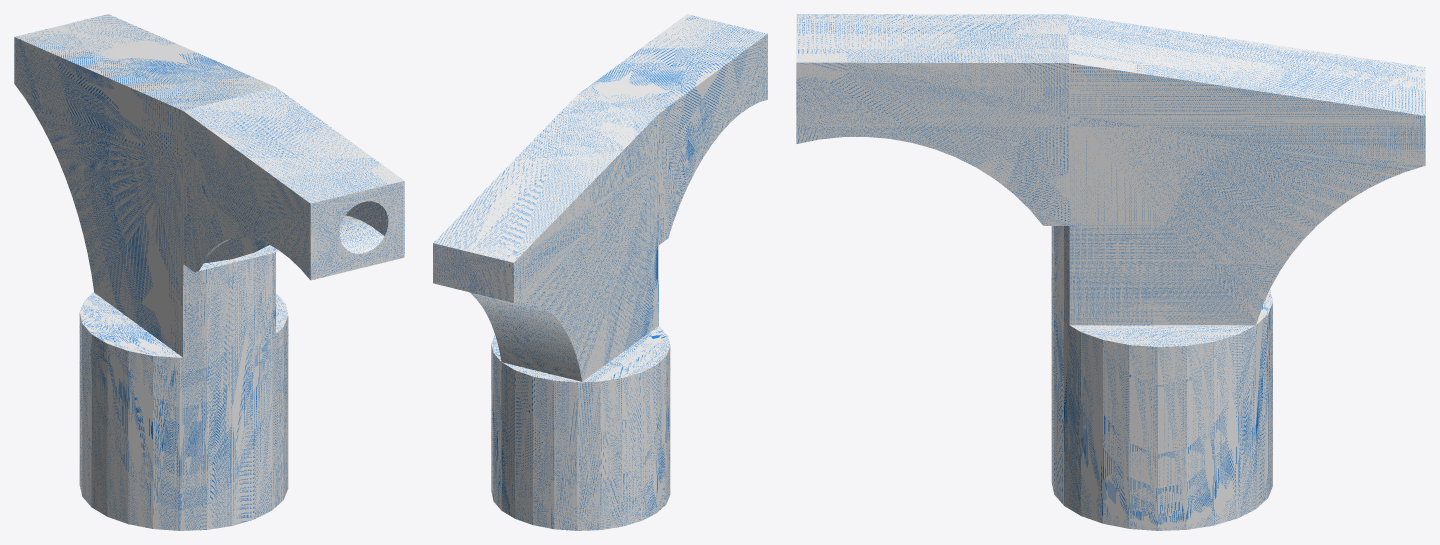
Rendered from original-8.obj.
The picture shows the model from 3 angles, left to right: view 1: azimuth 30°, elevation 25°; view 2: azimuth 150°, elevation 25°; view 3: azimuth 270°, elevation 25°; orthographic projection. The views are drawn at different scales.
Parts seen in each view (by area): view 1: 3dw.9b9a4bb5550f00ea586350d6e78ecc7/Model/mesh1/mesh1-geometry/m; view 2: 3dw.9b9a4bb5550f00ea586350d6e78ecc7/Model/mesh1/mesh1-geometry/m; view 3: 3dw.9b9a4bb5550f00ea586350d6e78ecc7/Model/mesh1/mesh1-geometry/m.
Part boxes in pixels (x1,y1,x2,y2): 3dw.9b9a4bb5550f00ea586350d6e78ecc7/Model/mesh1/mesh1-geometry/m: [14, 14, 404, 530]; 3dw.9b9a4bb5550f00ea586350d6e78ecc7/Model/mesh1/mesh1-geometry/m: [433, 14, 767, 530]; 3dw.9b9a4bb5550f00ea586350d6e78ecc7/Model/mesh1/mesh1-geometry/m: [796, 14, 1425, 530].
Size of the model in its own units: 0.2778 by 0.6178 by 0.7893.
